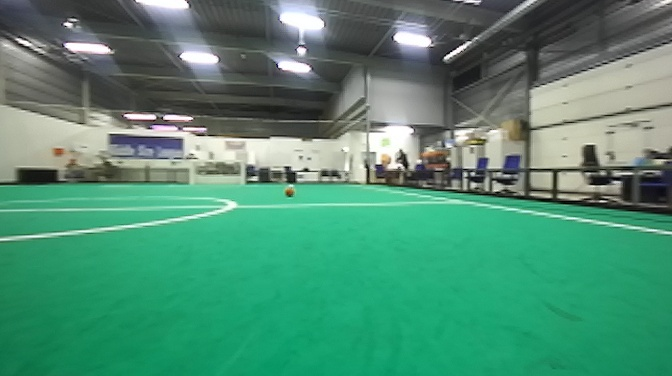ball: (279, 182, 299, 199)
goal: (189, 157, 245, 188)
goalpost: (239, 158, 247, 187), (188, 160, 195, 189)
